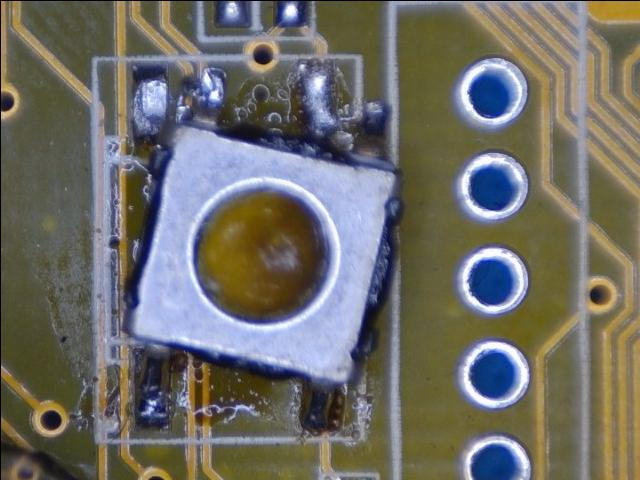Incorrect_installation: (122, 60, 403, 434)
